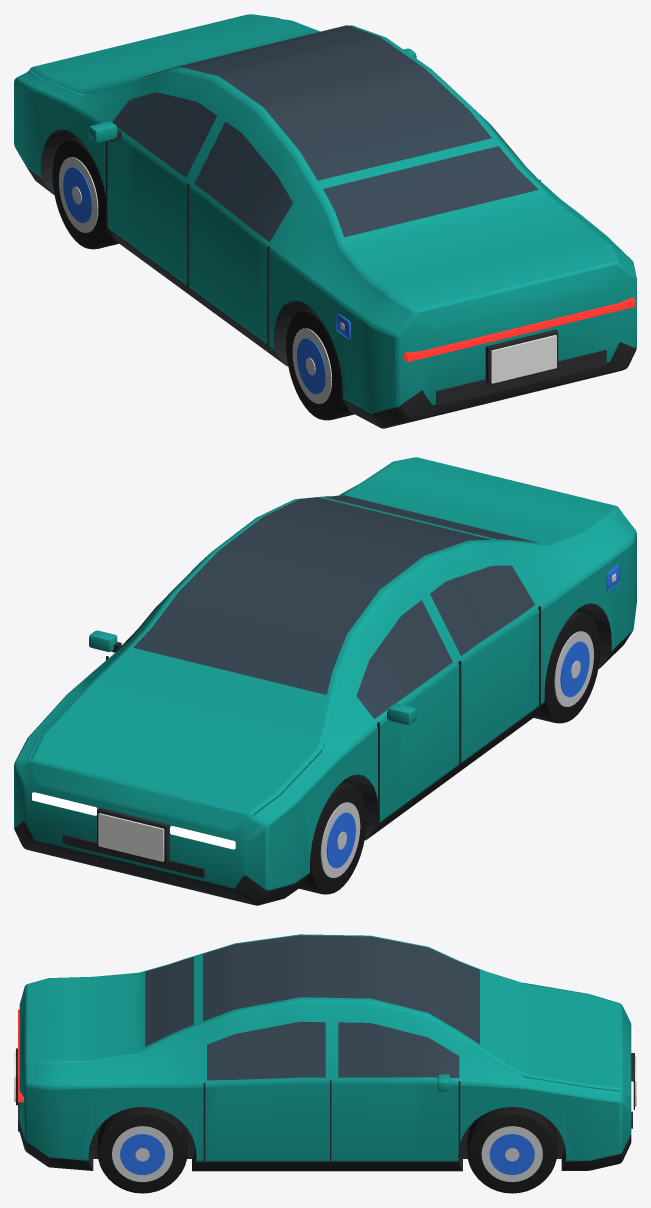
3 views of the same model, one above another, from view 1: azimuth 30°, elevation 25°; view 2: azimuth 150°, elevation 25°; view 3: azimuth 270°, elevation 25° (orthographic). The views are drawn at different scales.
Parts seen in each view (by area): view 1: CAR_ev; view 2: CAR_ev; view 3: CAR_ev.
Boxes of the visible parts, box(x1,y1,x2,y2) form: CAR_ev: box(14, 14, 636, 428); CAR_ev: box(14, 457, 636, 905); CAR_ev: box(14, 934, 636, 1193).
Size of the model in its own units: 2.28 by 1.53 by 4.84.
